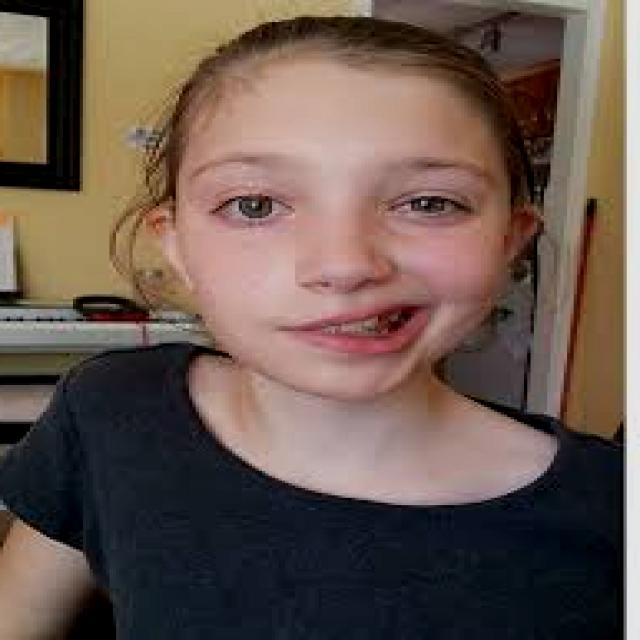stroke_face: (158, 23, 530, 395)
